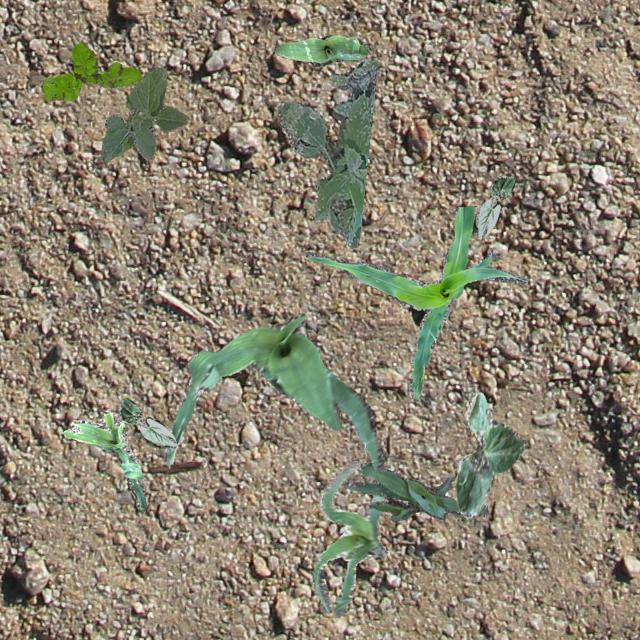crop: (304, 204, 526, 400), (164, 313, 382, 472), (312, 459, 386, 616), (454, 392, 526, 516), (61, 408, 146, 512), (343, 462, 488, 520), (100, 66, 186, 162), (272, 34, 370, 66), (118, 398, 176, 448), (474, 174, 514, 238)
weed: (276, 59, 378, 248), (42, 42, 142, 100)
